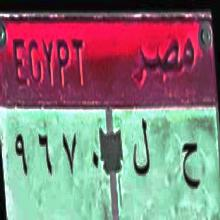0: (90, 143, 100, 172)
6: (38, 123, 56, 181)
7: (62, 126, 78, 179)
7aa: (176, 132, 204, 194)
9: (12, 128, 33, 182)
laam: (130, 115, 151, 187)
